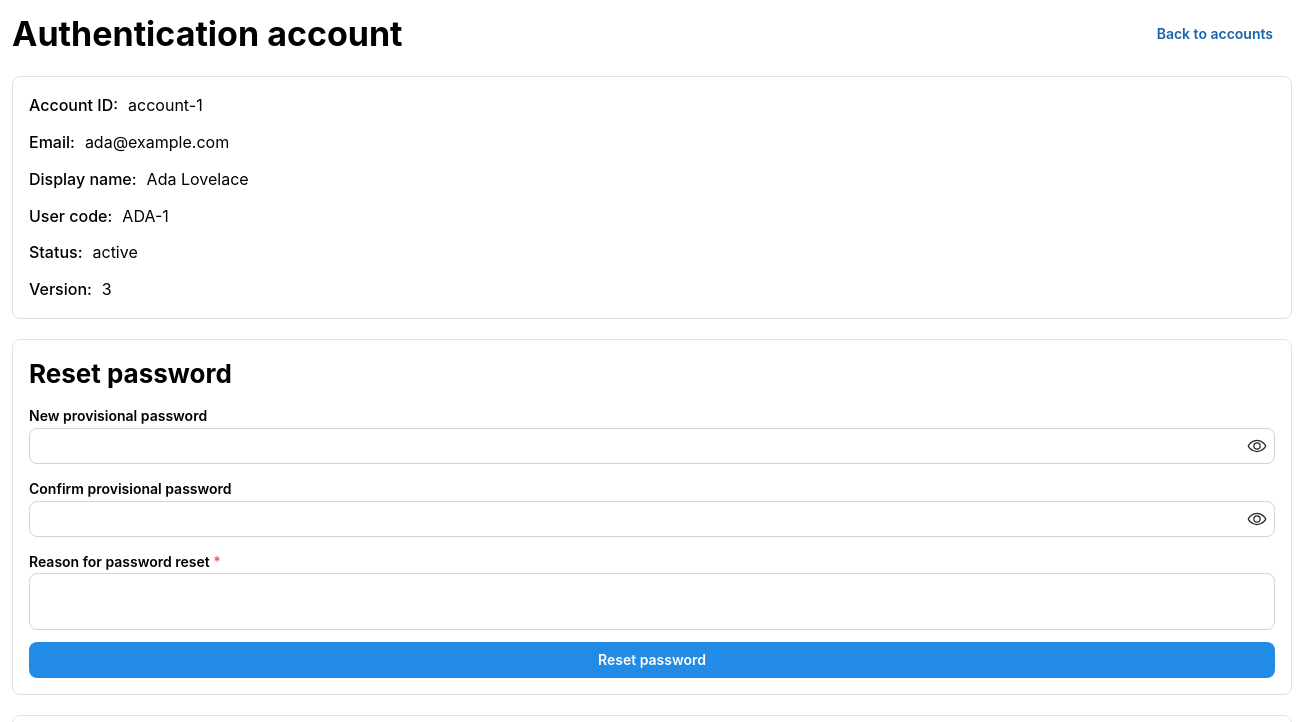
Test: AuthenticationAccountsPage › submits an active account reset with its current version and clears secrets after success
Type "temporary-secret" into the password field labelled "New provisional password". click: (652, 446)
box: left=30, top=429, right=1274, bottom=463
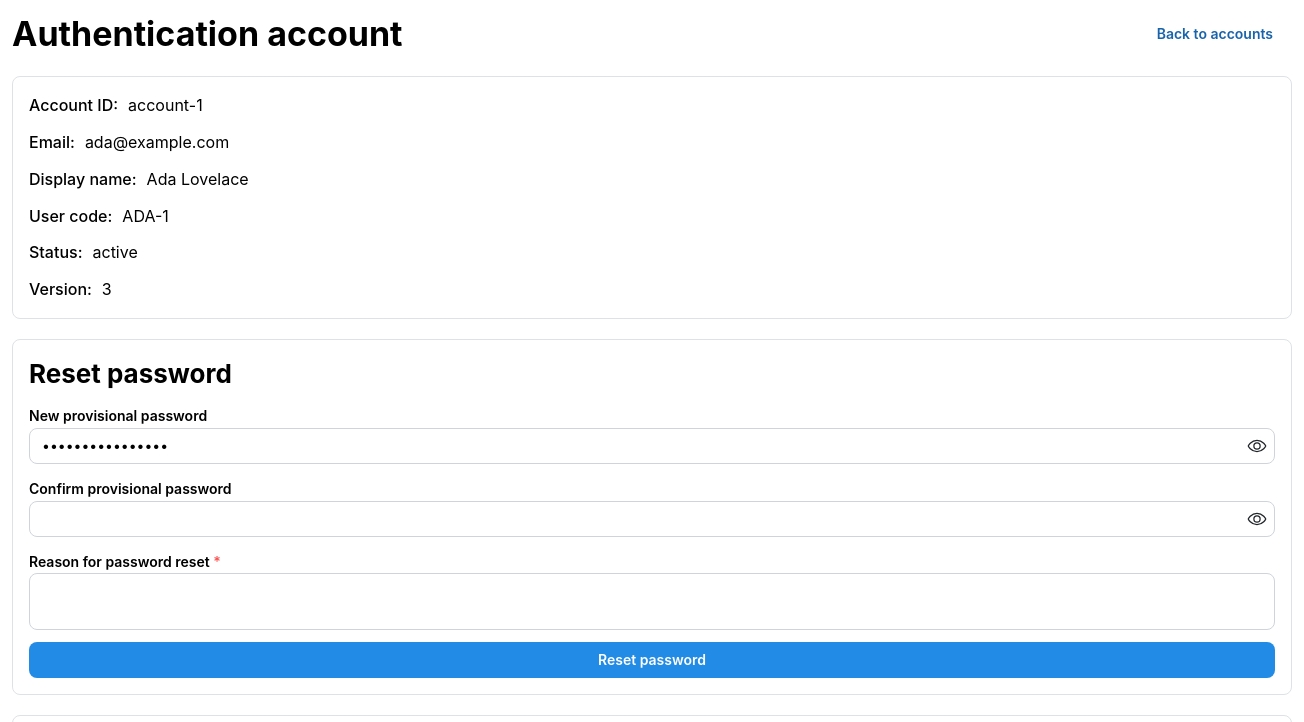
Type "temporary-secret" into the password field labelled "Confirm provisional password". click: (652, 519)
box: left=30, top=502, right=1274, bottom=536
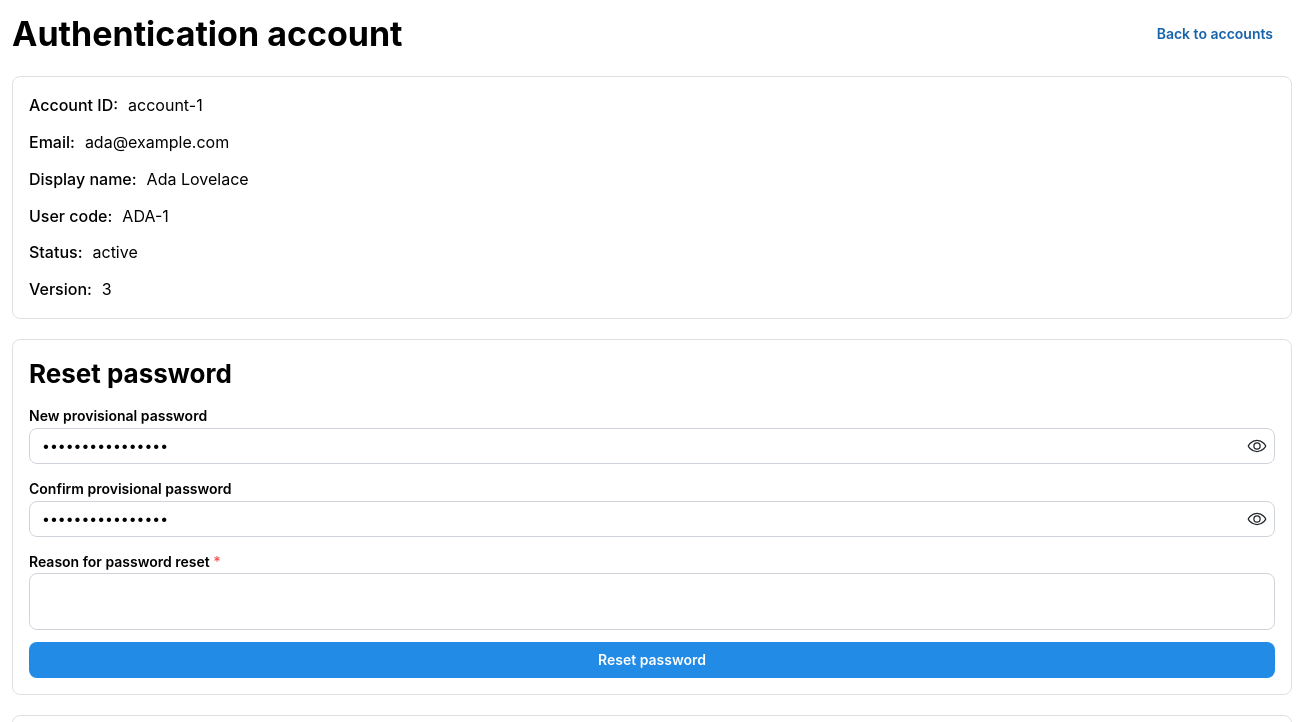
Type "Support request" into the text box labelled "Reason for password reset *". click: (652, 602)
box: left=29, top=574, right=1275, bottom=630
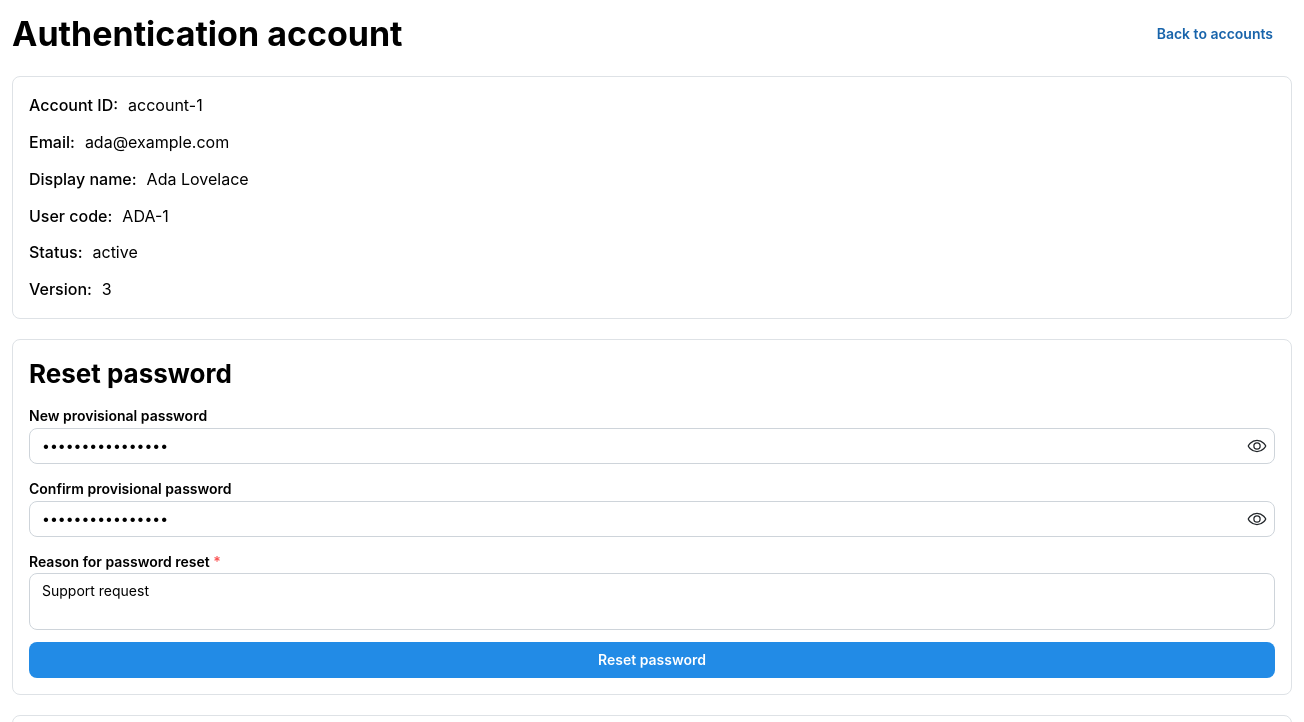
Click the button "Reset password". click: click(652, 660)
box: left=29, top=642, right=1275, bottom=678
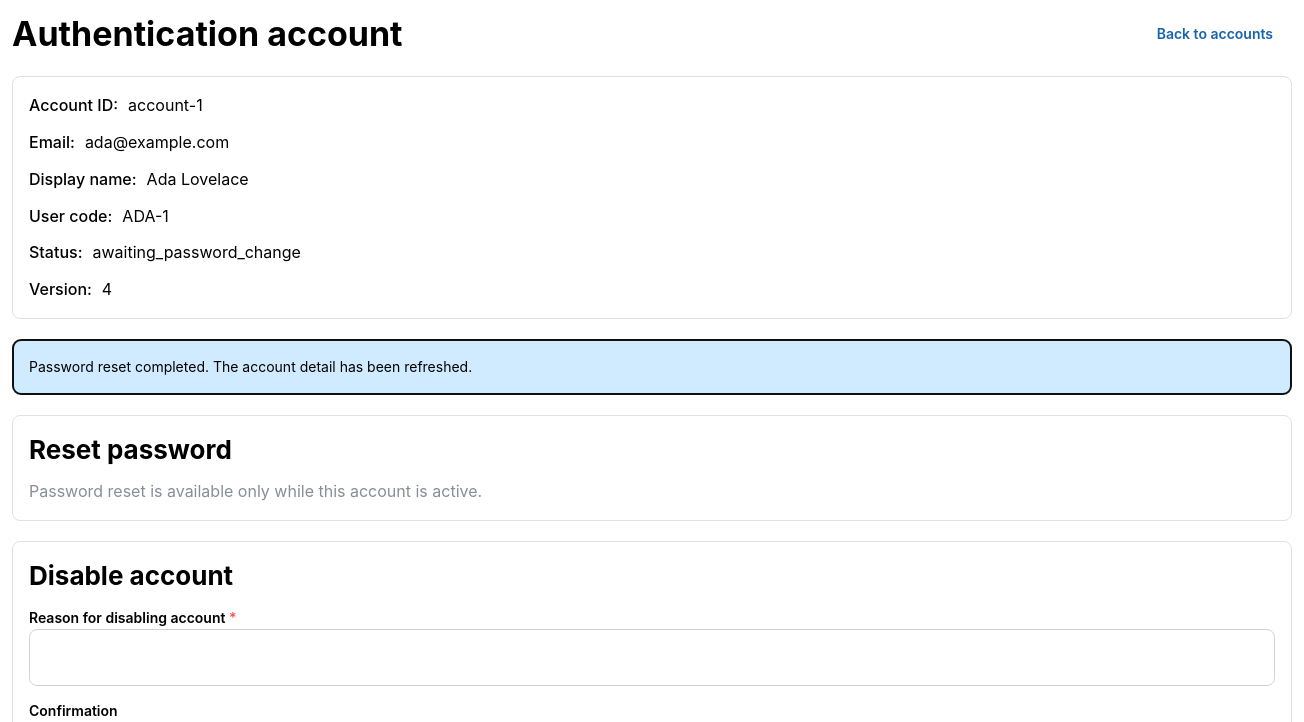
Now the text "Password reset completed" is shown, box left=29, top=358, right=472, bottom=375
Now the label labelled "New provisional password" is gone
Now the label labelled "Confirm provisional password" is gone
